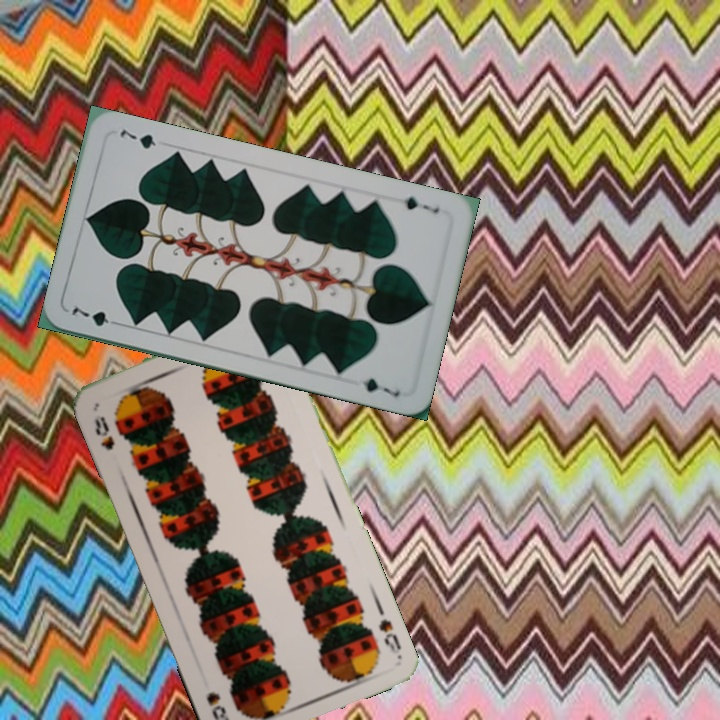G7: (67, 303, 125, 329), (399, 192, 442, 216)
S8: (374, 615, 404, 658), (90, 412, 117, 453)
